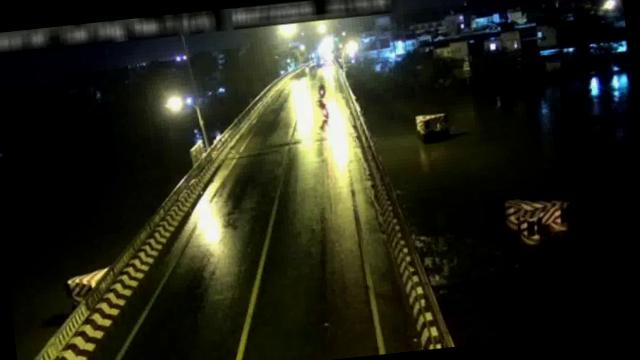Bike: (316, 98, 331, 120), (316, 84, 327, 99)
